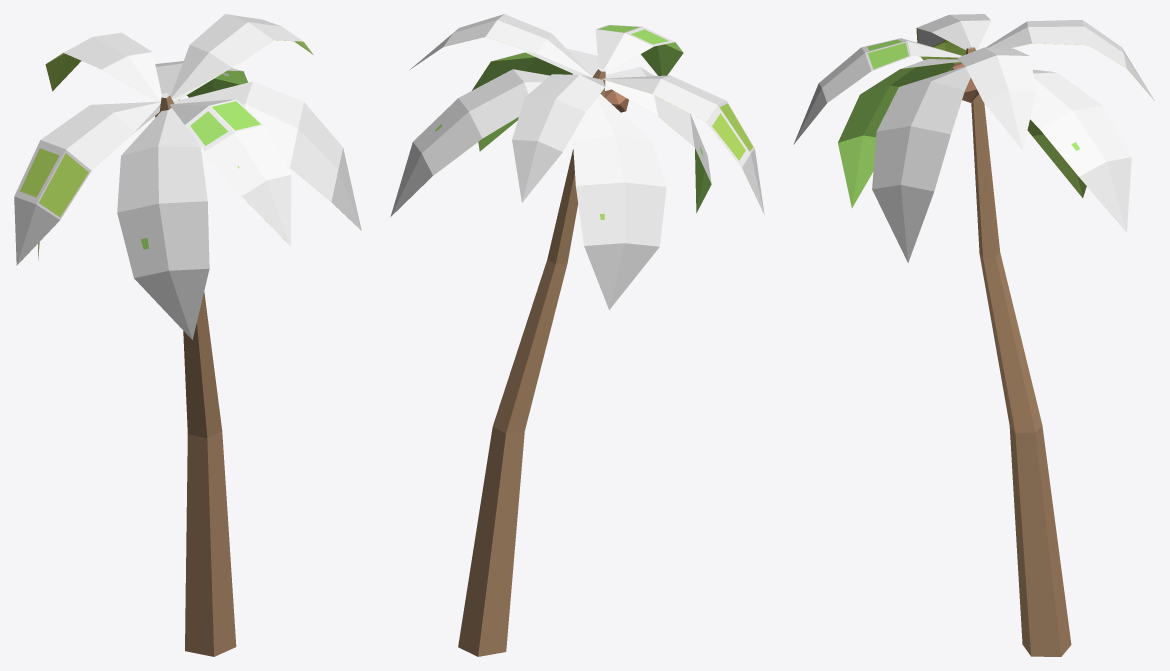
File: Palm_Tree_Coconut_m_Snow_06_LOD.fbx
3 views of the same model, side by side, from view 1: azimuth 30°, elevation 25°; view 2: azimuth 150°, elevation 25°; view 3: azimuth 270°, elevation 25° (orthographic). The views are drawn at different scales.
Visible parts, largest first — view 1: Palm_Tree_Coconut_m_Snow_06_LOD0; view 2: Palm_Tree_Coconut_m_Snow_06_LOD0; view 3: Palm_Tree_Coconut_m_Snow_06_LOD0.
Boxes of the visible parts, bbox=[...] form: Palm_Tree_Coconut_m_Snow_06_LOD0: bbox=[14, 14, 361, 656]; Palm_Tree_Coconut_m_Snow_06_LOD0: bbox=[390, 14, 764, 656]; Palm_Tree_Coconut_m_Snow_06_LOD0: bbox=[793, 14, 1154, 656].
Size of what is drawn, in the model's own units: 290 by 526 by 289.
